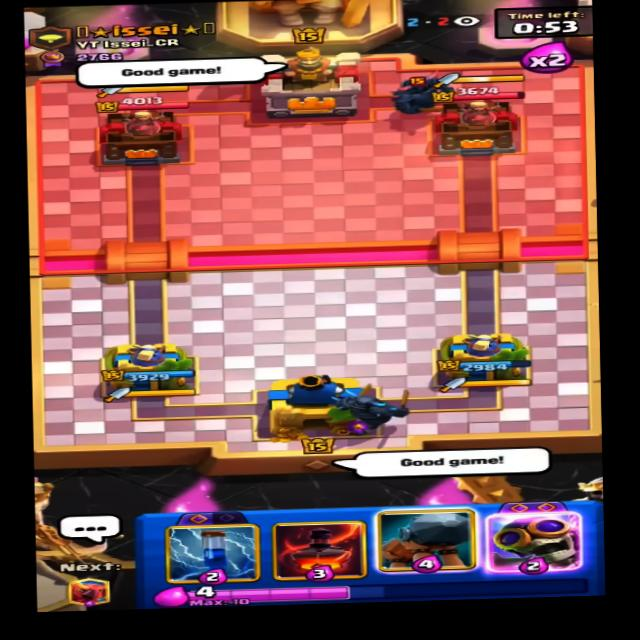pekka: (387, 68, 465, 114)
